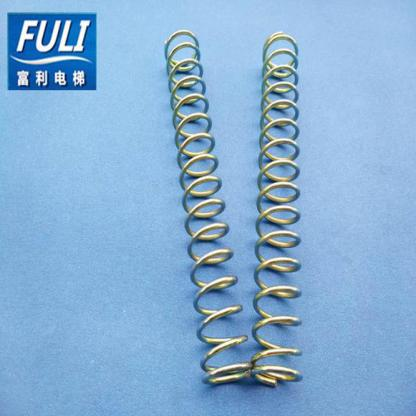FOD: (162, 26, 253, 387), (251, 29, 305, 386)
